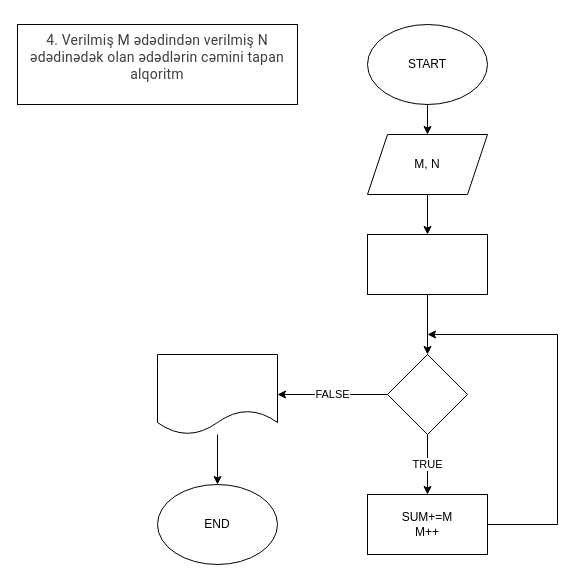
This 583x582 diagram has some shape labels left out. The shapes that lost their labels are listed below. From the top down, each one's centre as x and y in pixels, then its label:
At [427,264]: "SUM =0 NUM=M".
At [217,394]: "SUM".
At [427,394]: "NUM>M NUM<N".
